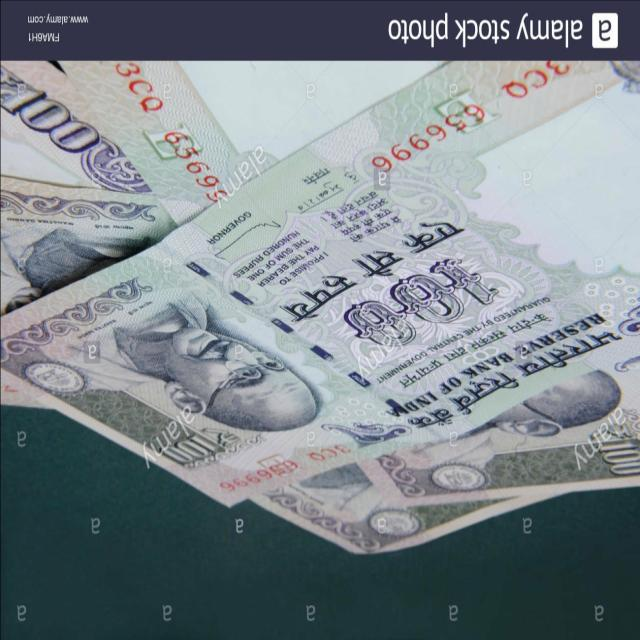100IndianRupees: (0, 58, 640, 503)
